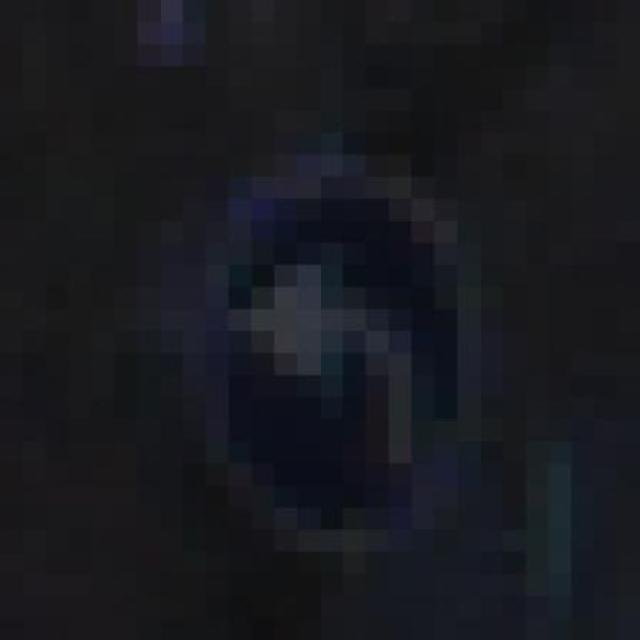Turn left ahead: (183, 132, 503, 596)
